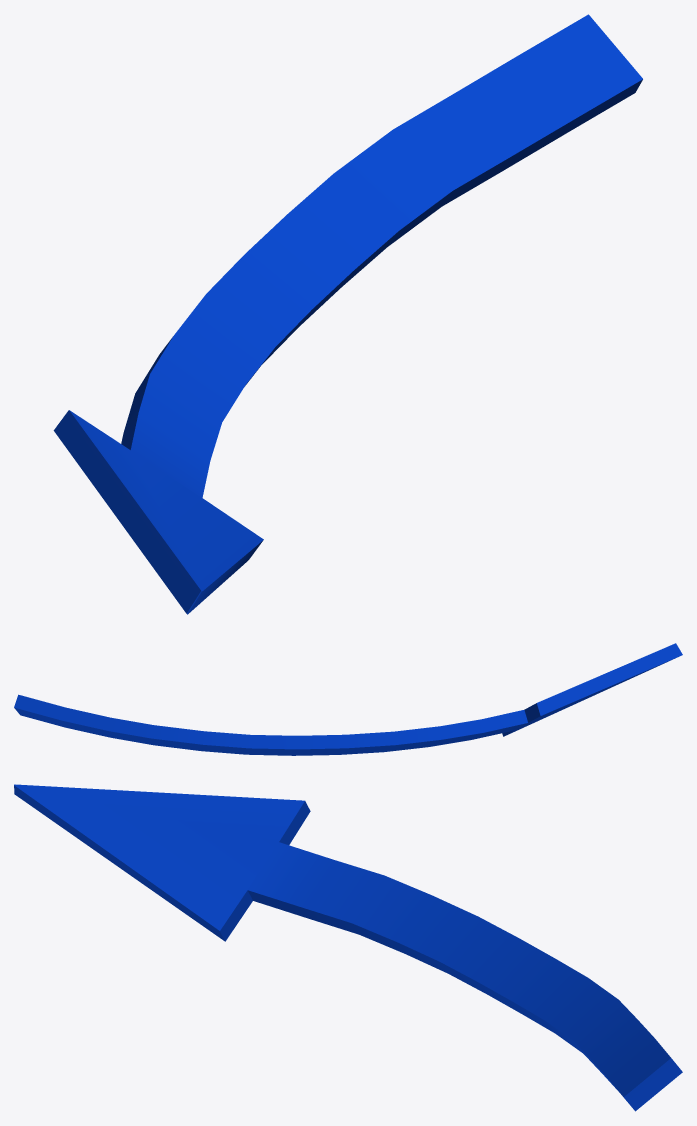
Rendered from Arrow08.fbx.
3 views of the same model, one above another, from view 1: azimuth 30°, elevation 25°; view 2: azimuth 150°, elevation 25°; view 3: azimuth 270°, elevation 25° (orthographic). The views are drawn at different scales.
Visible parts, largest first — view 1: Cube.107; view 2: Cube.107; view 3: Cube.107.
Part boxes in pixels (x1,y1,x2,y2): Cube.107: [53, 14, 642, 614]; Cube.107: [14, 643, 682, 755]; Cube.107: [14, 784, 682, 1111].
Bounding box in the file's own units: 4.65 × 0.779 × 4.29.
